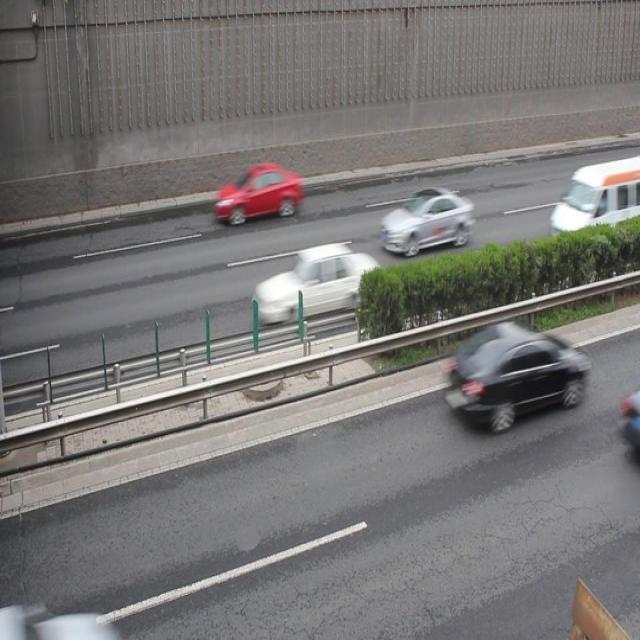car: (443, 324, 584, 429), (251, 246, 383, 322), (214, 158, 299, 225), (381, 190, 471, 253), (0, 598, 118, 640), (617, 386, 640, 447)
truck: (548, 158, 640, 252)
